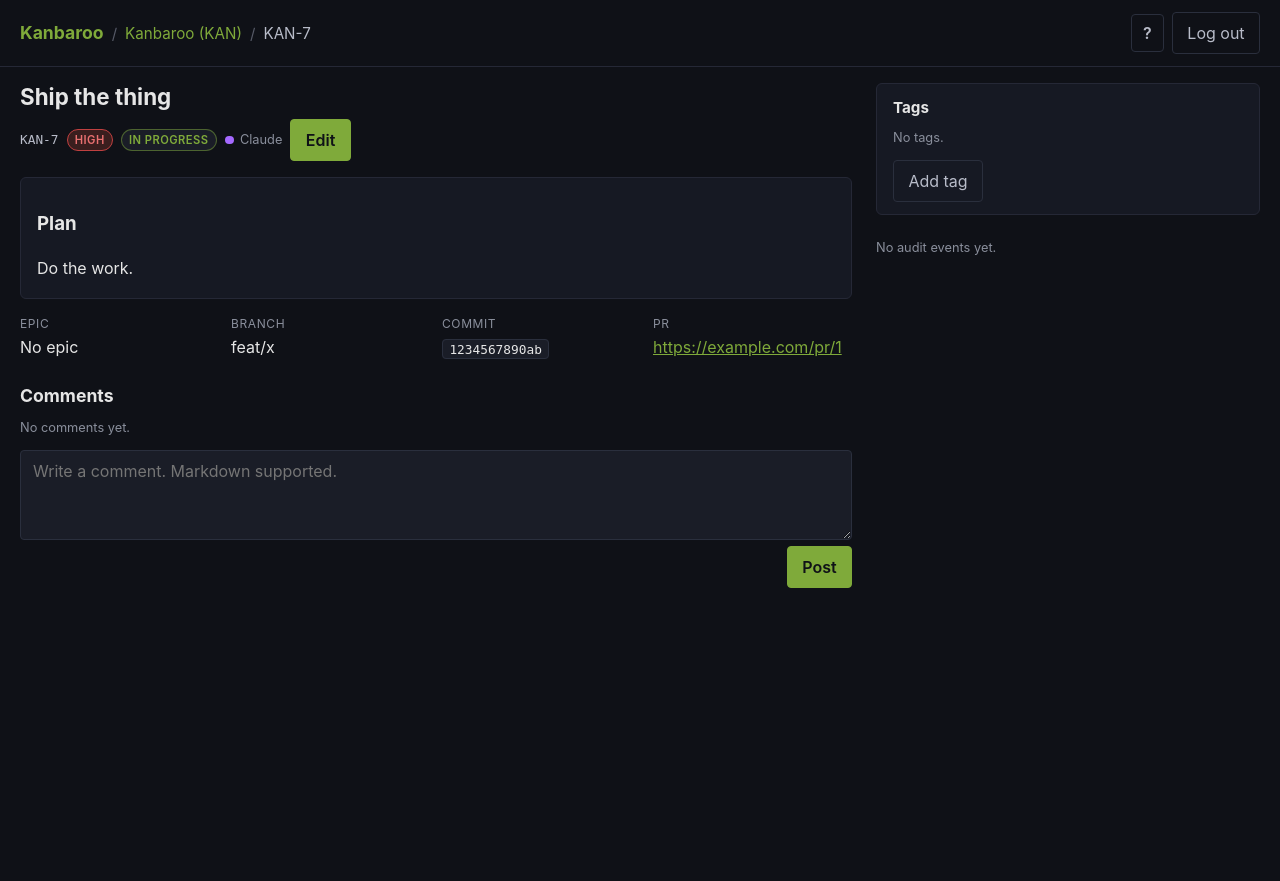
StoryDetail › surfaces the conflict modal on 412 and reverts to display mode on OK
Expected: the heading "Ship the thing" is shown, [20,83,171,110]
Click the button "Edit".
click(321, 140)  # box [290,119,351,161]
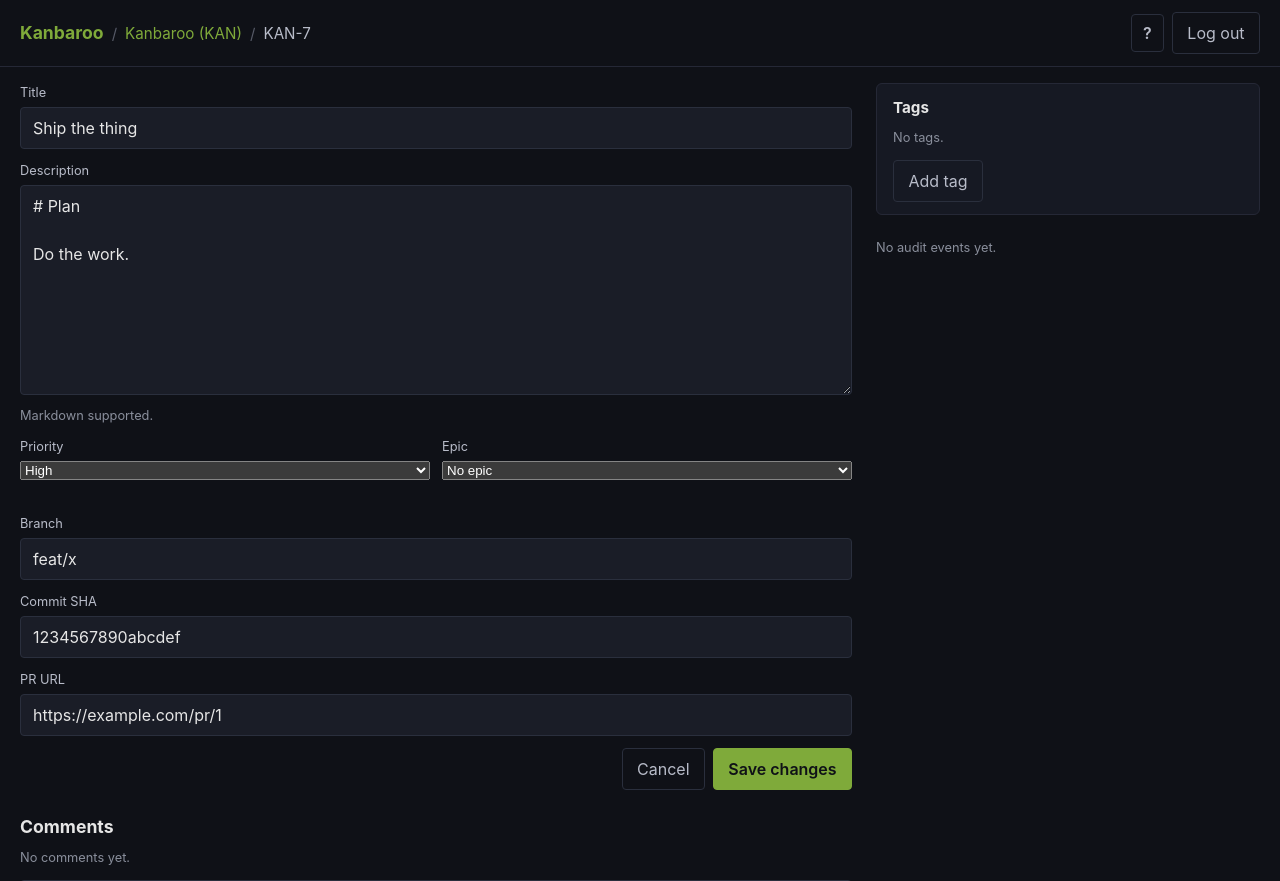
Replace the text in the field labelled "Title" with "Stomp" at (436, 128), box [20,107,852,149]
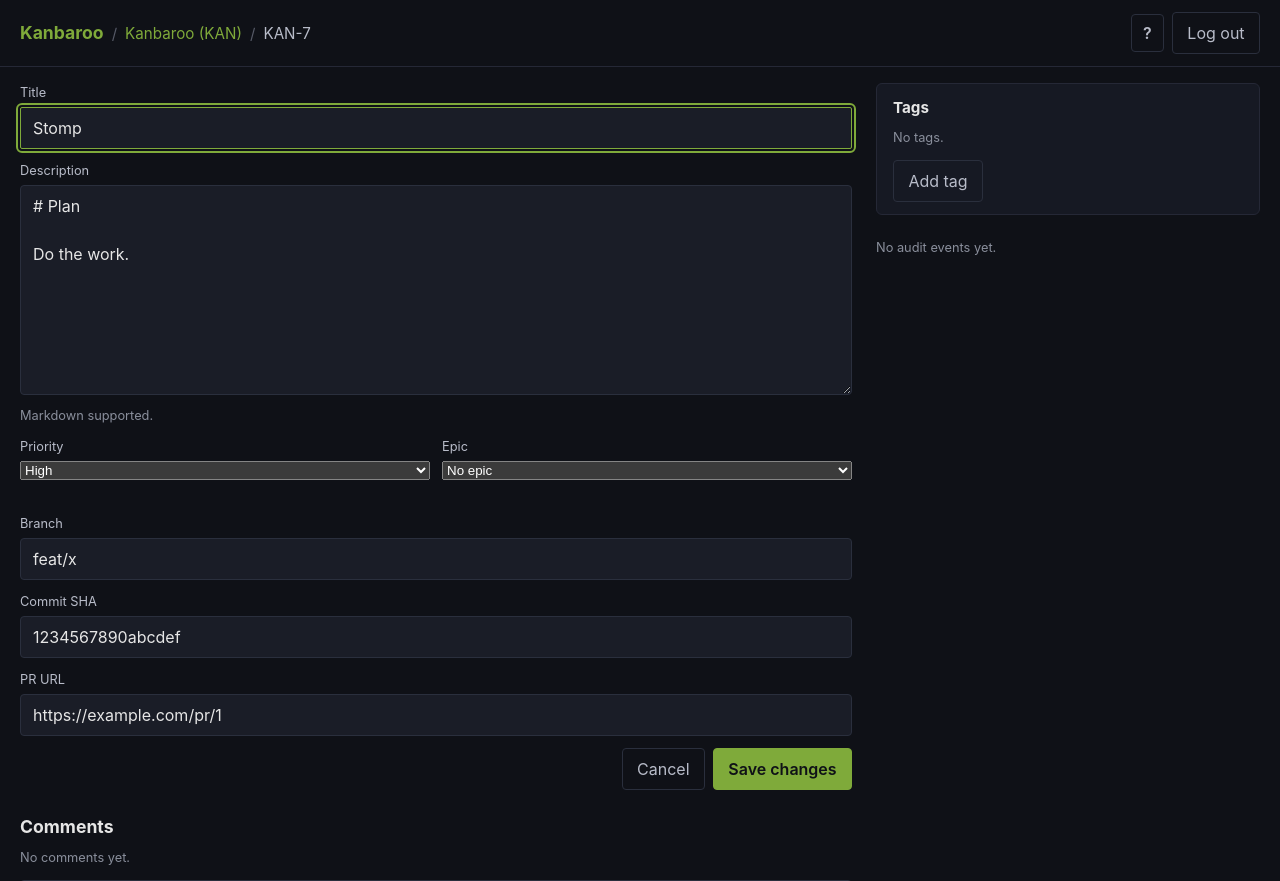
Click the button "Save changes".
click(782, 769)  # box [713,748,852,790]
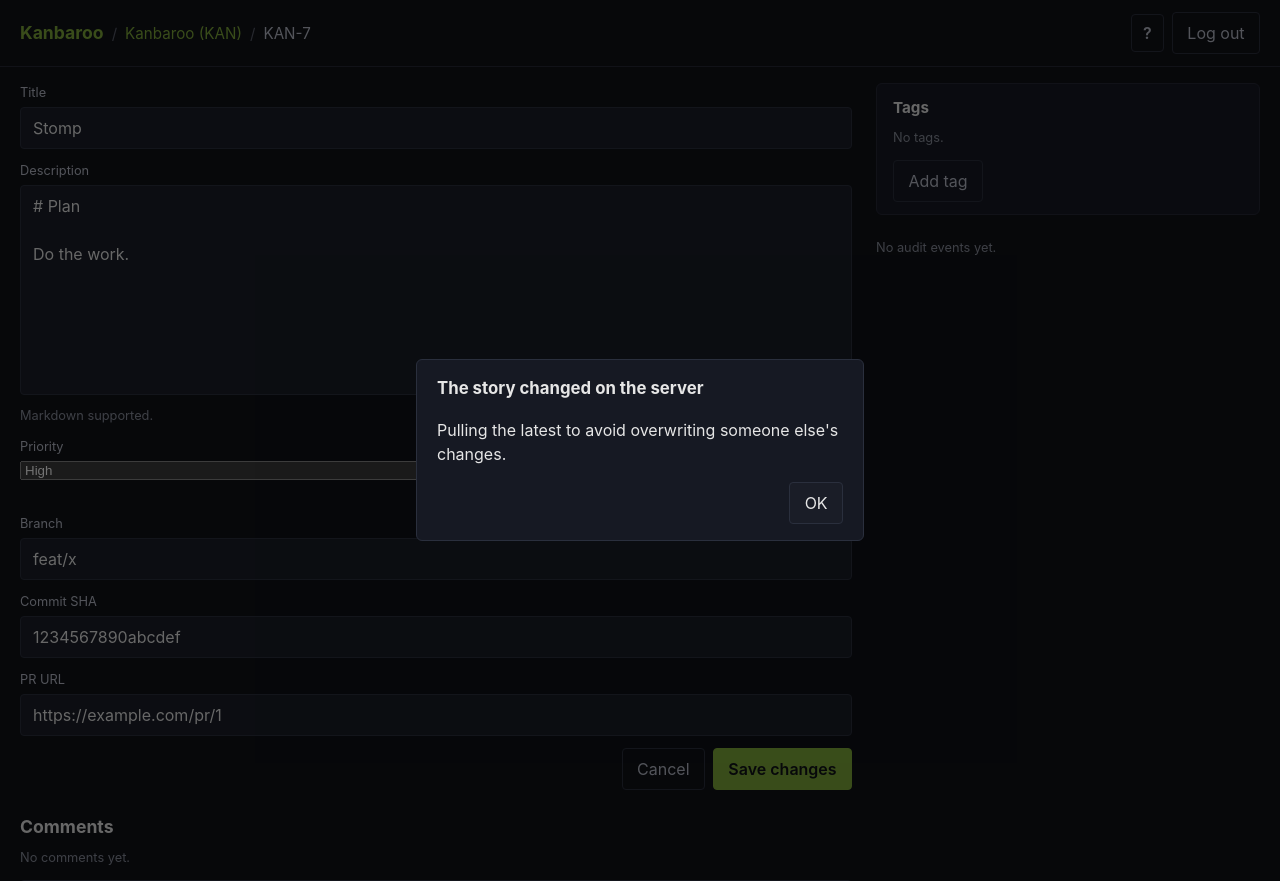
Result: the heading "The story changed on the server" is shown at [437,378,704,398]
Click the button "OK".
click(816, 503)  # box [789,482,843,524]
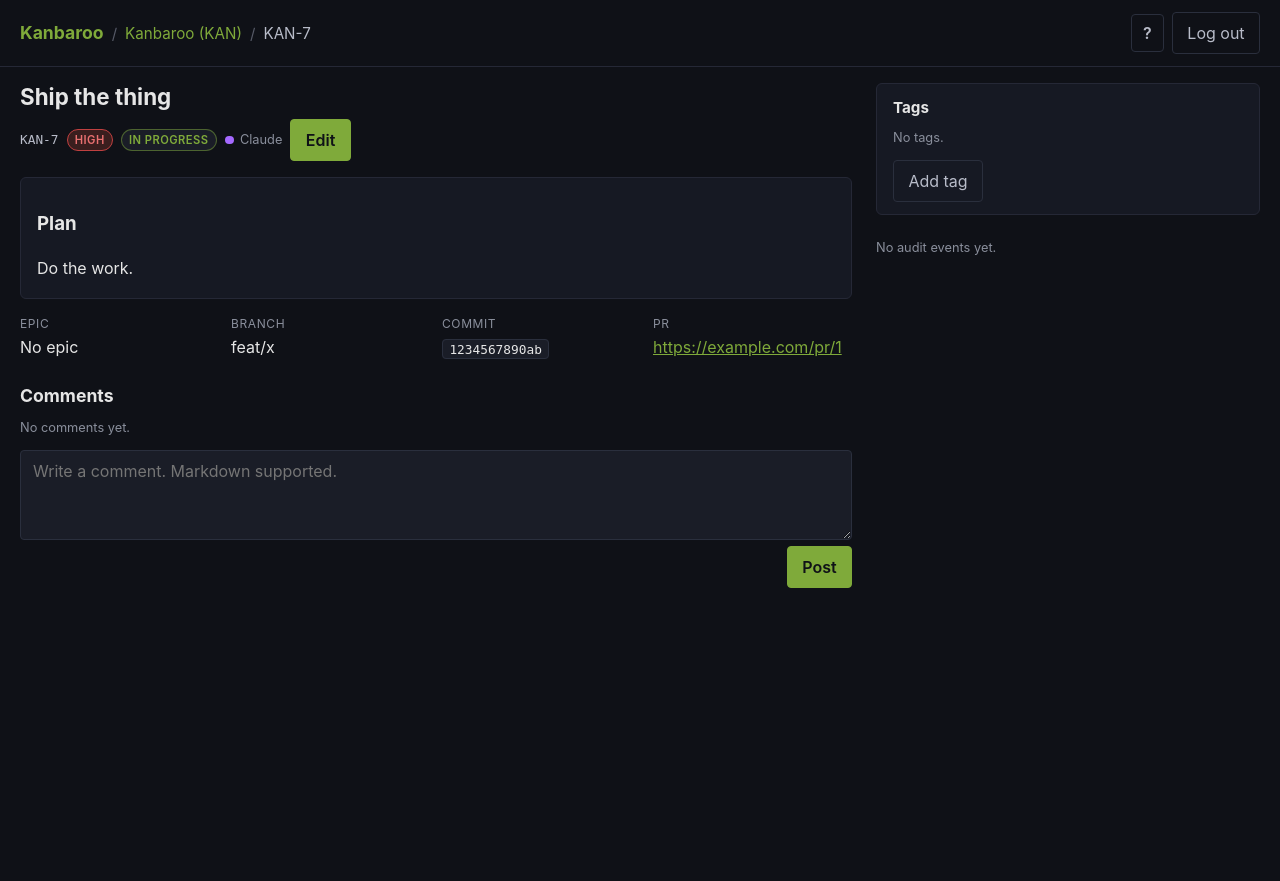
Result: the heading "Ship the thing" is shown at [20,83,171,110]
